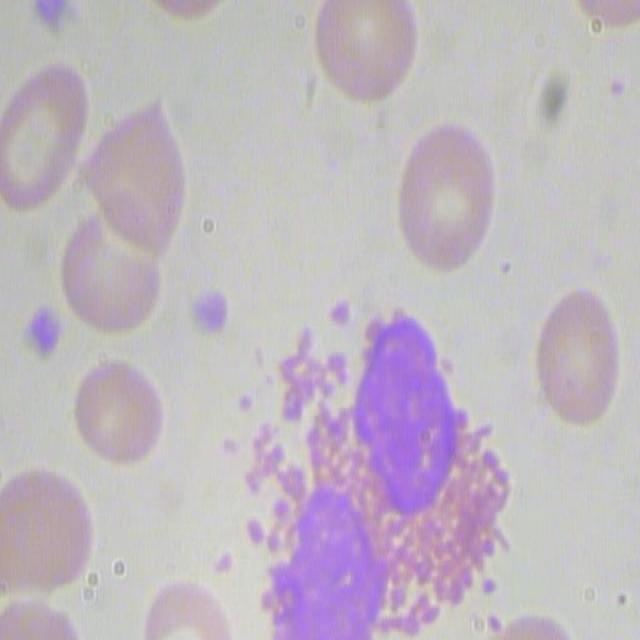RBC: (390, 121, 494, 276), (84, 97, 190, 248), (0, 54, 86, 214), (58, 214, 164, 337), (534, 288, 622, 428), (0, 468, 91, 599), (308, 0, 418, 106), (72, 354, 168, 472), (138, 576, 233, 640)
WBC: (260, 285, 512, 631)
platelets: (186, 284, 232, 346), (21, 300, 64, 366), (30, 0, 86, 37)
